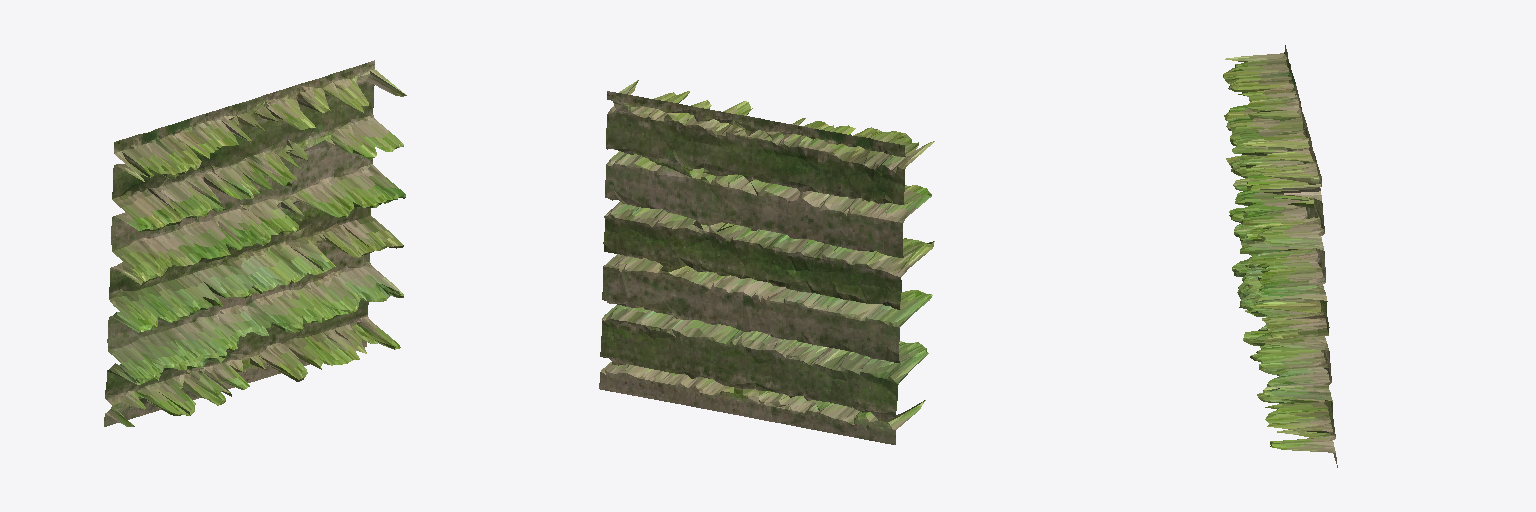
The picture shows the model from 3 angles: view 1: azimuth 30°, elevation 25°; view 2: azimuth 150°, elevation 25°; view 3: azimuth 270°, elevation 25°; orthographic projection.
Parts seen in each view (by area): view 1: grp1; view 2: grp1; view 3: grp1.
Boxes of the visible parts, x1,y1,x2,y2 form: grp1: [104, 60, 406, 426]; grp1: [599, 80, 934, 444]; grp1: [1223, 45, 1337, 467].
Bounding box in the file's own units: 10 × 10 × 3.6.
Materials: 1 (1 with a texture image).